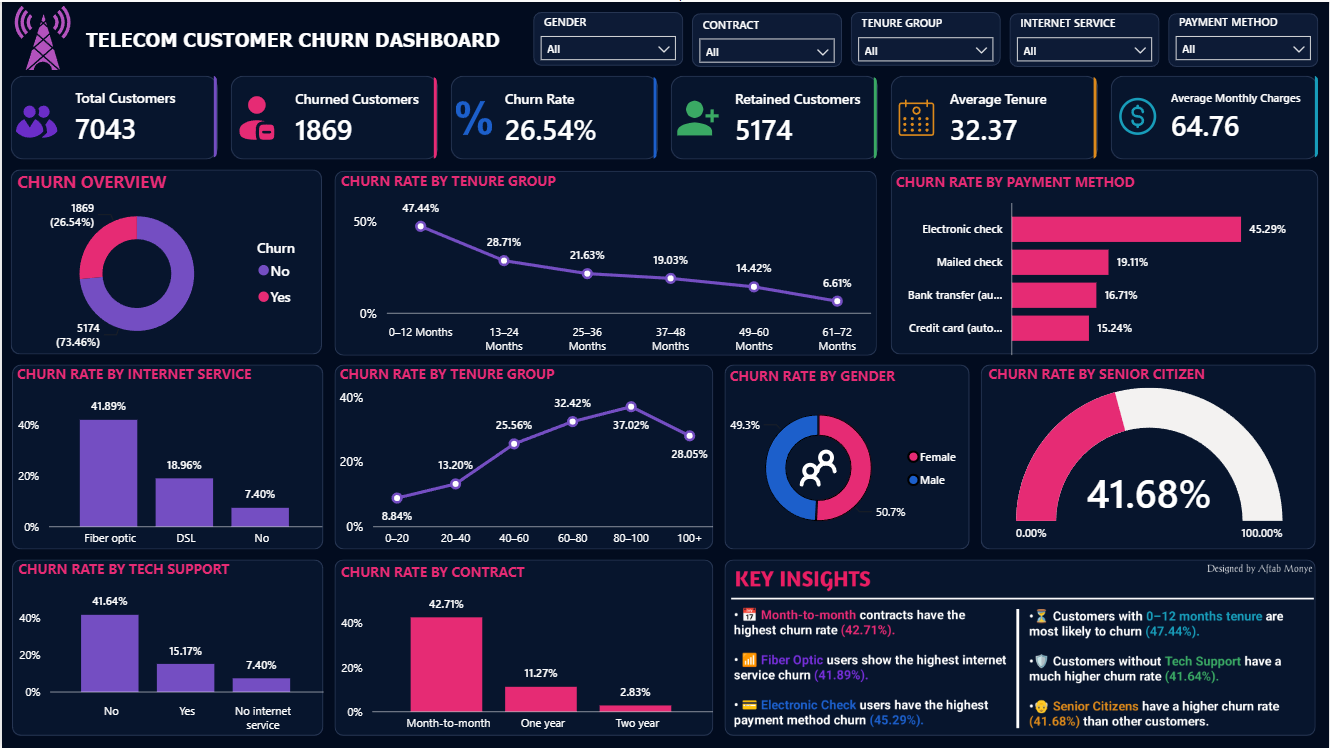

What the dashboard file says about the page in this screenshot:
{"tool":"powerbi","page":{"name":"Page 1","canvas":[1280,720],"ordinal":0},"visuals":[{"type":"shape","box":[665.9,10.9,144.8,51.9],"z":0,"group":"g2"},{"type":"shape","box":[8.4,71.4,200,80.8],"z":0,"group":"g1"},{"type":"shape","box":[697.3,538.1,570.6,170.1],"z":0},{"type":"shape","box":[819.1,9.7,144.8,51.9],"z":1000,"group":"g2"},{"type":"shape","box":[220.5,71.4,200.3,80.8],"z":1000,"group":"g1"},{"type":"shape","box":[8.4,161.9,300.4,178.6],"z":1000},{"type":"shape","box":[972.4,10.9,144.8,51.9],"z":2000,"group":"g2"},{"type":"shape","box":[432.9,71.4,200.3,80.8],"z":2000,"group":"g1"},{"type":"shape","box":[320.9,538.1,365.6,170.1],"z":2000},{"type":"shape","box":[1125.6,10.9,144.8,51.9],"z":3000,"group":"g2"},{"type":"shape","box":[645.3,71.4,200.3,80.8],"z":3000,"group":"g1"},{"type":"clusteredColumnChart","title":"CHURN RATE BY CONTRACT","fields":{"Y":["Measure.Churn Rate"],"Category":["Telco Churn.Contract"]},"box":[322.1,540.5,364.3,167.7],"z":3000},{"type":"shape","box":[512.7,9.7,144.8,51.9],"z":4000,"group":"g2"},{"type":"shape","box":[857.7,71.4,200.3,80.8],"z":4000,"group":"g1"},{"type":"shape","box":[320.9,162.9,523.6,178.6],"z":4000},{"type":"shape","box":[1070.1,71.4,200.3,80.8],"z":5000,"group":"g1"},{"type":"shape","box":[697.3,349.9,236.5,178.6],"z":5000},{"type":"shape","box":[857.8,161.7,412.6,178.6],"z":6000},{"type":"donutChart","title":"CHURN RATE BY GENDER","fields":{"Y":["Measure.Churn Rate"],"Category":["Telco Churn.gender"]},"box":[697.3,351.1,237.7,179.8],"z":7000},{"type":"group","id":"g1","title":"Group 2","box":[8.4,71.4,1261.9,80.8],"z":8000},{"type":"shape","box":[9.7,349.9,300.4,178.6],"z":9000},{"type":"shape","box":[320.9,349.9,365.6,178.6],"z":10000},{"type":"shape","box":[0,0,1280,72.4],"z":11000},{"type":"group","id":"g2","title":"Group 1","box":[512.7,9.7,757.6,53.1],"z":12000},{"type":"shape","box":[944.6,349.9,323.3,178.6],"z":13000},{"type":"slicer","fields":{"Values":["Telco Churn.gender"]},"box":[515.2,12.1,139.9,47.1],"z":14000},{"type":"slicer","fields":{"Values":["Telco Churn.Contract"]},"box":[668.4,14.5,139.9,47.1],"z":15000},{"type":"slicer","fields":{"Values":["Telco Churn.Tenure Group"]},"box":[821.6,13.3,139.9,47.1],"z":16000},{"type":"slicer","fields":{"Values":["Telco Churn.InternetService"]},"box":[974.8,13.3,139.9,47.1],"z":17000},{"type":"slicer","fields":{"Values":["Telco Churn.PaymentMethod"]},"box":[1128,12.1,139.9,47.1],"z":18000},{"type":"cardVisual","fields":{"Data":["Measure.Total Customers"]},"box":[8.4,71.2,199.1,79.6],"z":19000},{"type":"cardVisual","fields":{"Data":["Measure.Churned Customers"]},"box":[220.8,72.4,199.1,79.6],"z":20000},{"type":"cardVisual","fields":{"Data":["Measure.Churn Rate"]},"box":[433.1,72.4,199.1,79.6],"z":21000},{"type":"cardVisual","fields":{"Data":["Measure.Retained Customers"]},"box":[645.4,72.4,199.1,79.6],"z":22000},{"type":"cardVisual","fields":{"Data":["Measure.Average Tenure"]},"box":[857.8,72.4,199.1,79.6],"z":23000},{"type":"cardVisual","fields":{"Data":["Measure.Average Monthly Charges"]},"box":[1071.3,71.2,199.1,79.6],"z":24000},{"type":"donutChart","title":"CHURN OVERVIEW","fields":{"Y":["Measure.Total Customers"],"Category":["Telco Churn.Churn"]},"box":[9.7,161.7,300.4,179.8],"z":25000},{"type":"lineChart","title":"CHURN RATE BY TENURE GROUP","fields":{"Y":["Measure.Churn Rate"],"Category":["Telco Churn.Tenure Group"]},"box":[322.1,162.9,522.4,179.8],"z":26000},{"type":"clusteredBarChart","title":"CHURN RATE BY PAYMENT METHOD","fields":{"Y":["Measure.Churn Rate"],"Category":["Telco Churn.PaymentMethod"]},"box":[857.8,161.7,410.2,181],"z":27000},{"type":"clusteredColumnChart","title":"CHURN RATE BY INTERNET SERVICE","fields":{"Y":["Measure.Churn Rate"],"Category":["Telco Churn.InternetService"]},"box":[8.4,349.9,300.4,179.8],"z":28000},{"type":"lineChart","title":"CHURN RATE BY TENURE GROUP","fields":{"Y":["Measure.Churn Rate"],"Category":["Telco Churn.Monthly Charge Group"]},"box":[320.9,349.9,365.6,179.8],"z":29000},{"type":"image","box":[764.9,429.5,45.8,41],"z":30000},{"type":"gauge","title":"CHURN RATE BY SENIOR CITIZEN","fields":{"Y":["Telco Churn.Senior Citizen Churn Rate"]},"box":[947.1,349.9,320.9,179.8],"z":31000},{"type":"shape","box":[9.7,538.1,300.4,170.1],"z":32000},{"type":"clusteredColumnChart","title":"CHURN RATE BY TECH SUPPORT","fields":{"Y":["Measure.Churn Rate"],"Category":["Telco Churn.TechSupport"]},"box":[9.7,538.1,300.4,170.1],"z":33000},{"type":"image","box":[702.1,540.5,565.8,167.7],"z":34000},{"type":"image","box":[2.4,3.6,73.6,62.7],"z":35000},{"type":"textbox","box":[76,20.5,428.3,35],"z":36000}]}

Visuals, with their boxes in screenshot pixels (x1, y1, x2, y2), scaled from the page's 1280x720 canvas onto the 1330x748 screenshot:
shape: bbox=(692, 11, 842, 65)
shape: bbox=(9, 74, 217, 158)
shape: bbox=(725, 559, 1317, 736)
shape: bbox=(851, 10, 1002, 64)
shape: bbox=(229, 74, 437, 158)
shape: bbox=(9, 168, 321, 354)
shape: bbox=(1010, 11, 1161, 65)
shape: bbox=(450, 74, 658, 158)
shape: bbox=(333, 559, 713, 736)
shape: bbox=(1170, 11, 1320, 65)
shape: bbox=(671, 74, 879, 158)
"CHURN RATE BY CONTRACT" clusteredColumnChart: bbox=(335, 562, 713, 736)
shape: bbox=(533, 10, 683, 64)
shape: bbox=(891, 74, 1099, 158)
shape: bbox=(333, 169, 877, 355)
shape: bbox=(1112, 74, 1320, 158)
shape: bbox=(725, 364, 970, 549)
shape: bbox=(891, 168, 1320, 354)
"CHURN RATE BY GENDER" donutChart: bbox=(725, 365, 972, 552)
"Group 2" group: bbox=(9, 74, 1320, 158)
shape: bbox=(10, 364, 322, 549)
shape: bbox=(333, 364, 713, 549)
shape: bbox=(0, 0, 1329, 75)
"Group 1" group: bbox=(533, 10, 1320, 65)
shape: bbox=(981, 364, 1317, 549)
slicer - Telco Churn.gender: bbox=(535, 13, 681, 62)
slicer - Telco Churn.Contract: bbox=(695, 15, 840, 64)
slicer - Telco Churn.Tenure Group: bbox=(854, 14, 999, 63)
slicer - Telco Churn.InternetService: bbox=(1013, 14, 1158, 63)
slicer - Telco Churn.PaymentMethod: bbox=(1172, 13, 1317, 62)
cardVisual - Measure.Total Customers: bbox=(9, 74, 216, 157)
cardVisual - Measure.Churned Customers: bbox=(229, 75, 436, 158)
cardVisual - Measure.Churn Rate: bbox=(450, 75, 657, 158)
cardVisual - Measure.Retained Customers: bbox=(671, 75, 877, 158)
cardVisual - Measure.Average Tenure: bbox=(891, 75, 1098, 158)
cardVisual - Measure.Average Monthly Charges: bbox=(1113, 74, 1320, 157)
"CHURN OVERVIEW" donutChart: bbox=(10, 168, 322, 355)
"CHURN RATE BY TENURE GROUP" lineChart: bbox=(335, 169, 877, 356)
"CHURN RATE BY PAYMENT METHOD" clusteredBarChart: bbox=(891, 168, 1318, 356)
"CHURN RATE BY INTERNET SERVICE" clusteredColumnChart: bbox=(9, 364, 321, 550)
"CHURN RATE BY TENURE GROUP" lineChart: bbox=(333, 364, 713, 550)
image: bbox=(795, 446, 842, 489)
"CHURN RATE BY SENIOR CITIZEN" gauge: bbox=(984, 364, 1318, 550)
shape: bbox=(10, 559, 322, 736)
"CHURN RATE BY TECH SUPPORT" clusteredColumnChart: bbox=(10, 559, 322, 736)
image: bbox=(730, 562, 1317, 736)
image: bbox=(2, 4, 79, 69)
textbox: bbox=(79, 21, 524, 58)
